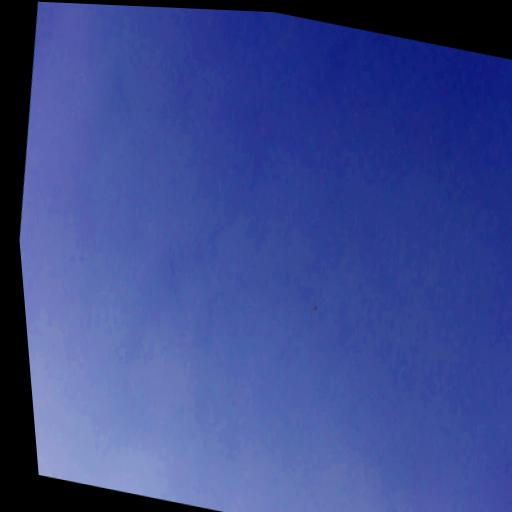drones: (309, 302, 318, 316)
